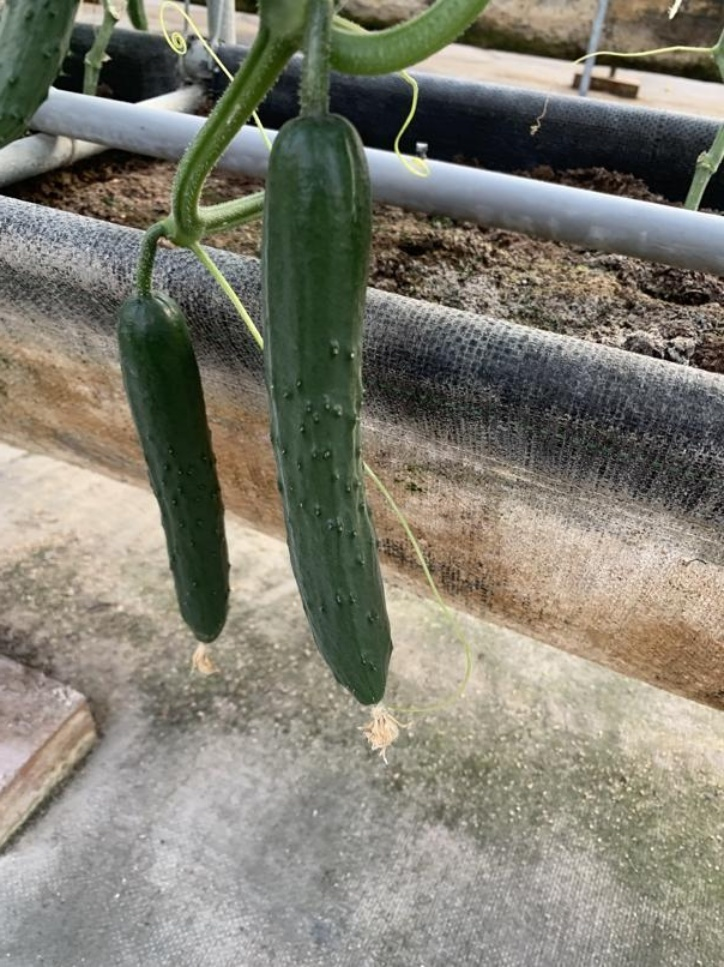mature: (261, 115, 400, 712), (107, 287, 236, 651)
